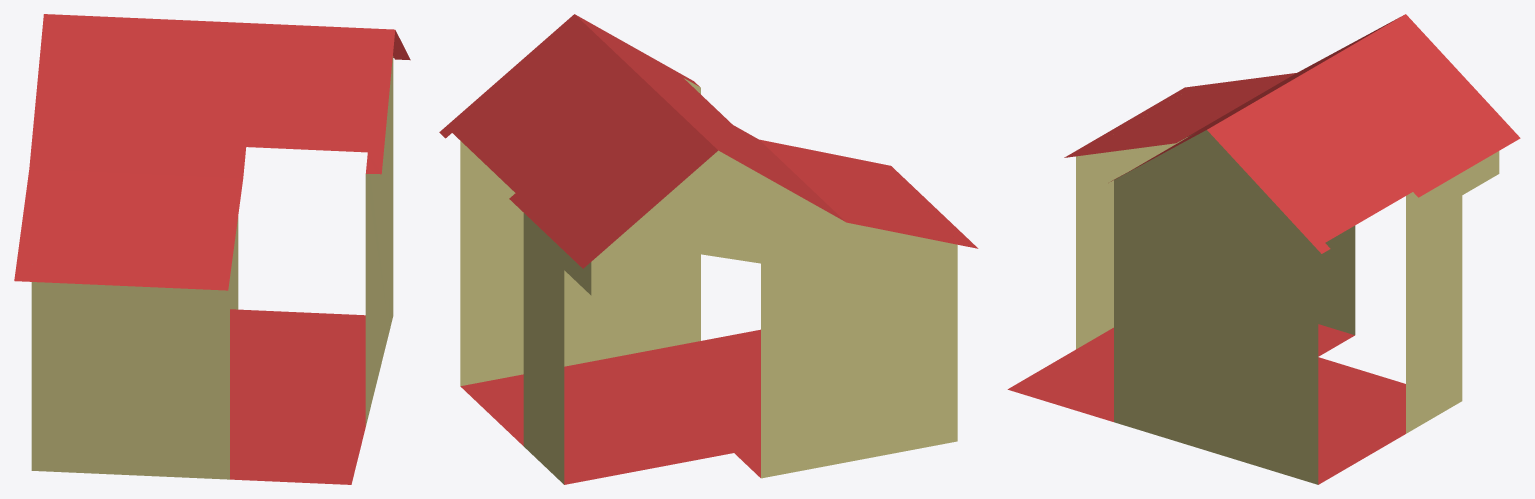
3 renders of one model, left to right at view 1: azimuth 30°, elevation 25°; view 2: azimuth 150°, elevation 25°; view 3: azimuth 270°, elevation 25°, orthographic. The views are drawn at different scales.
Bounding box in the file's own units: 16.91 × 16.76 × 11.85.
